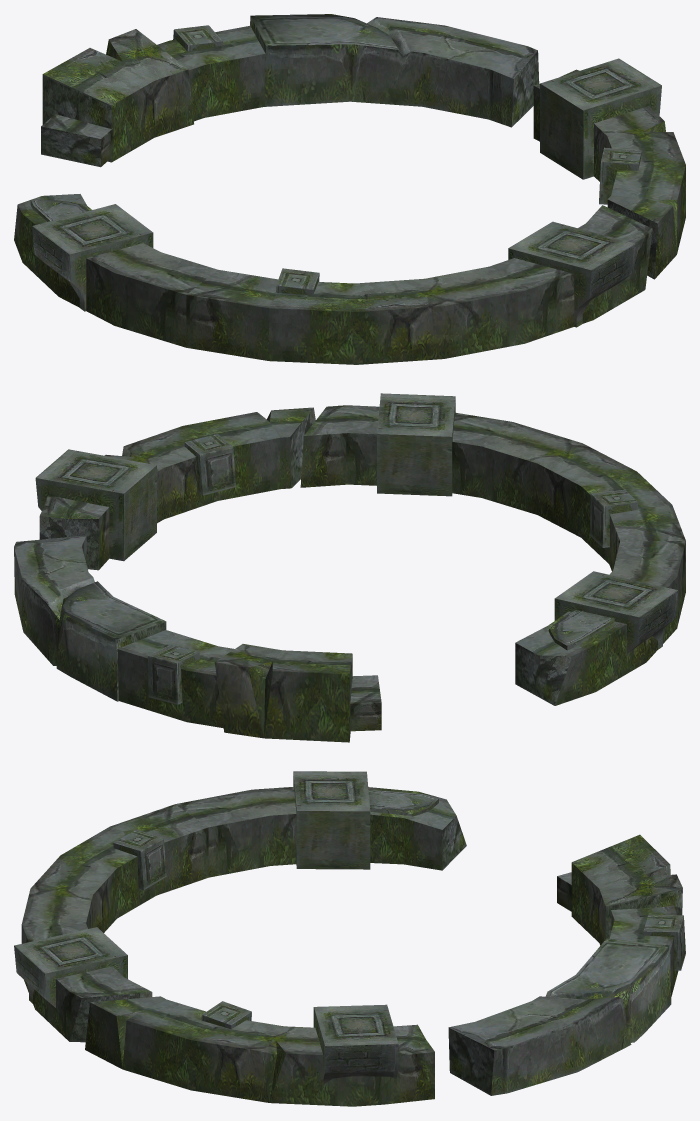
The model's file is 1005_Item_taizi_1.FBX.
The picture shows the model from 3 angles, top to bottom: view 1: azimuth 30°, elevation 25°; view 2: azimuth 150°, elevation 25°; view 3: azimuth 270°, elevation 25°; orthographic projection. The views are drawn at different scales.
Parts seen in each view (by area): view 1: 1005_Item_taizi_1; view 2: 1005_Item_taizi_1; view 3: 1005_Item_taizi_1.
Boxes of the visible parts, box(x1,y1,x2,y2) form: 1005_Item_taizi_1: box(14, 14, 685, 364); 1005_Item_taizi_1: box(14, 393, 685, 742); 1005_Item_taizi_1: box(14, 771, 685, 1106).
Size of the model in its own units: 2647 by 2658 by 294.
